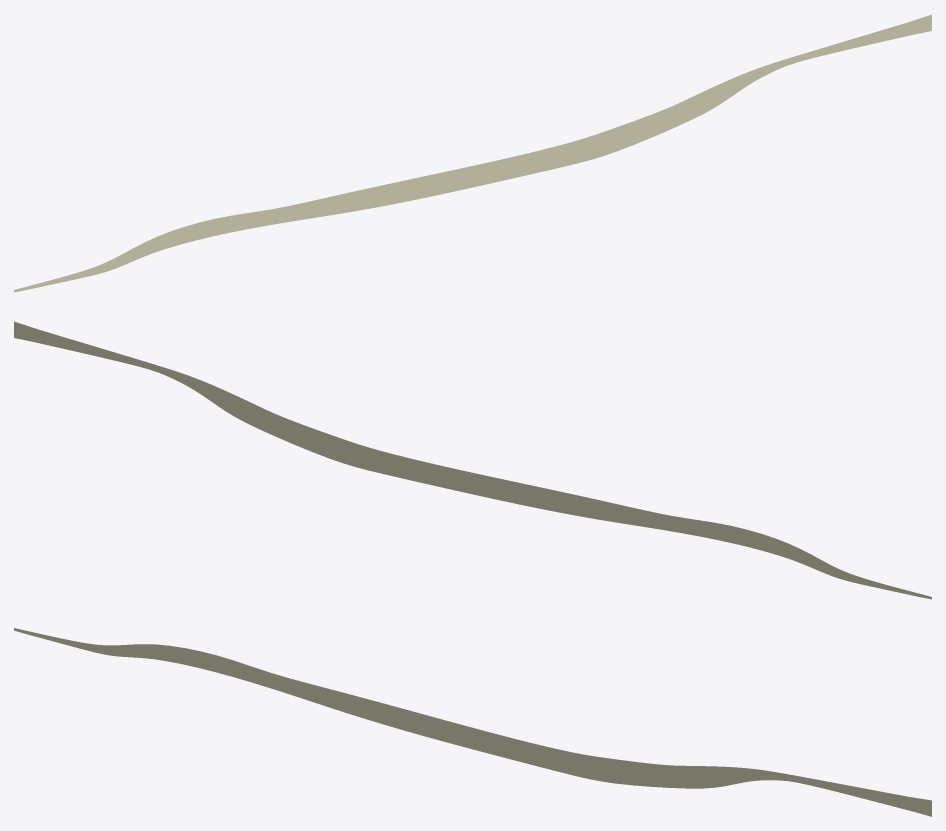
Rendered from Level_01_Boira.fbx.
3 views of the same model, one above another, from view 1: azimuth 30°, elevation 25°; view 2: azimuth 150°, elevation 25°; view 3: azimuth 330°, elevation 25° (orthographic).
Visible parts, largest first — view 1: Level_01_Boira1; view 2: Level_01_Boira1; view 3: Level_01_Boira1.
Boxes of the visible parts, <box> form: Level_01_Boira1: <box>14,14,931,292</box>; Level_01_Boira1: <box>14,321,931,599</box>; Level_01_Boira1: <box>14,628,931,816</box>.
Size of the model in its own units: 46.58 by 3.03 by 0.
